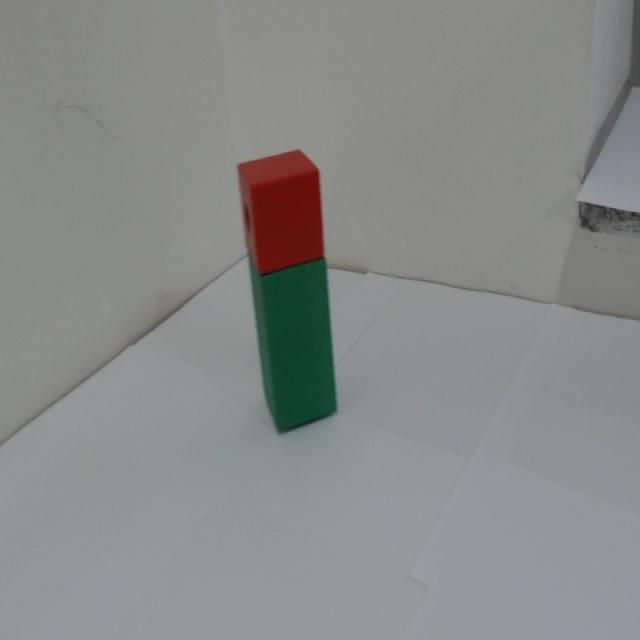cube: (218, 120, 335, 262)
